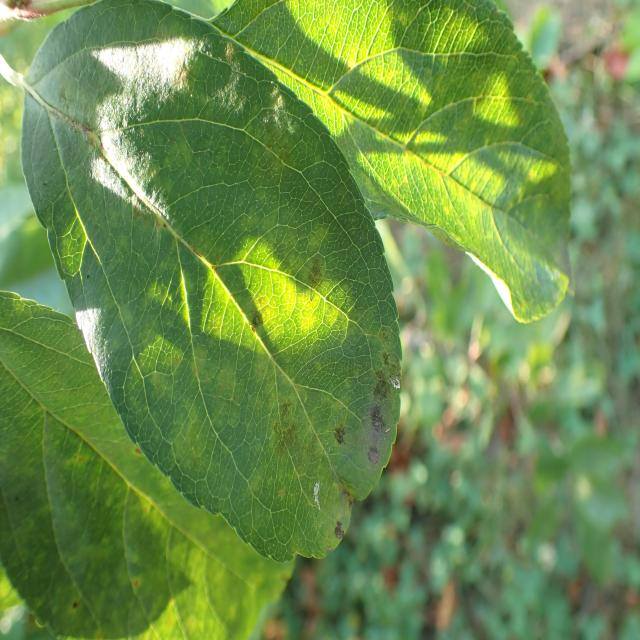scab: (21, 56, 213, 266), (240, 84, 342, 345), (243, 372, 360, 568), (360, 299, 403, 493)
